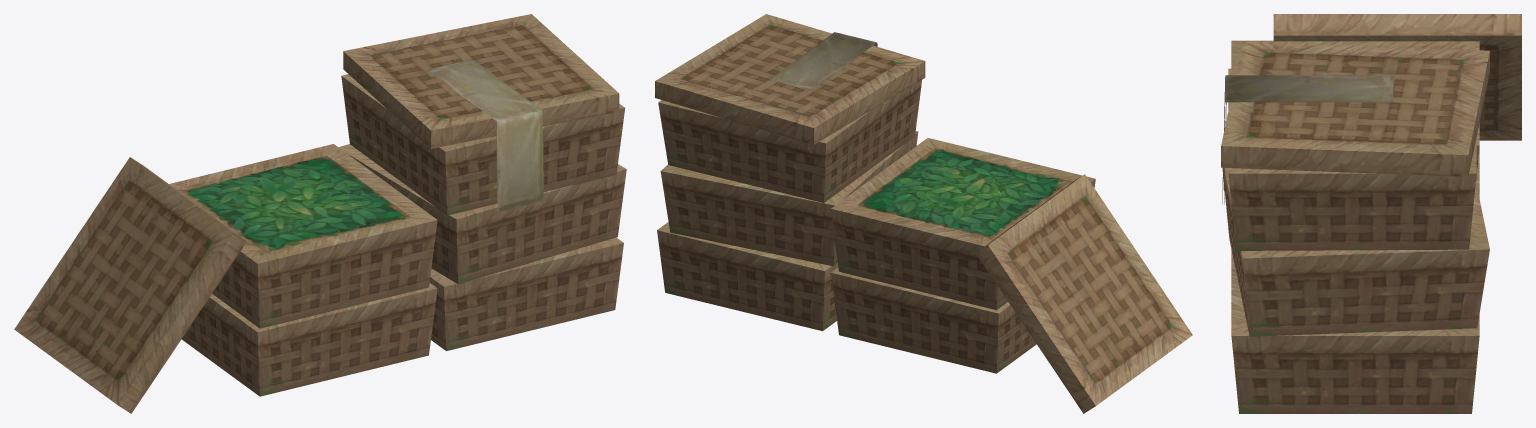
Rendered from Homeworld_Exterior_Cyg_Decoration_Prop_Chakuang_01_Vo.fbx.
The picture shows the model from 3 angles, left to right: view 1: azimuth 30°, elevation 25°; view 2: azimuth 150°, elevation 25°; view 3: azimuth 270°, elevation 25°; orthographic projection. The views are drawn at different scales.
Visible parts, largest first — view 1: Area_Cyg_Prop_QYZ_Chakuang_01_Vo; view 2: Area_Cyg_Prop_QYZ_Chakuang_01_Vo; view 3: Area_Cyg_Prop_QYZ_Chakuang_01_Vo.
Boxes of the visible parts, x1,y1,x2,y2 form: Area_Cyg_Prop_QYZ_Chakuang_01_Vo: (14, 14, 626, 413); Area_Cyg_Prop_QYZ_Chakuang_01_Vo: (655, 14, 1192, 413); Area_Cyg_Prop_QYZ_Chakuang_01_Vo: (1221, 14, 1521, 413).
Bounding box in the file's own units: 1.94 × 0.8324 × 0.8524.
